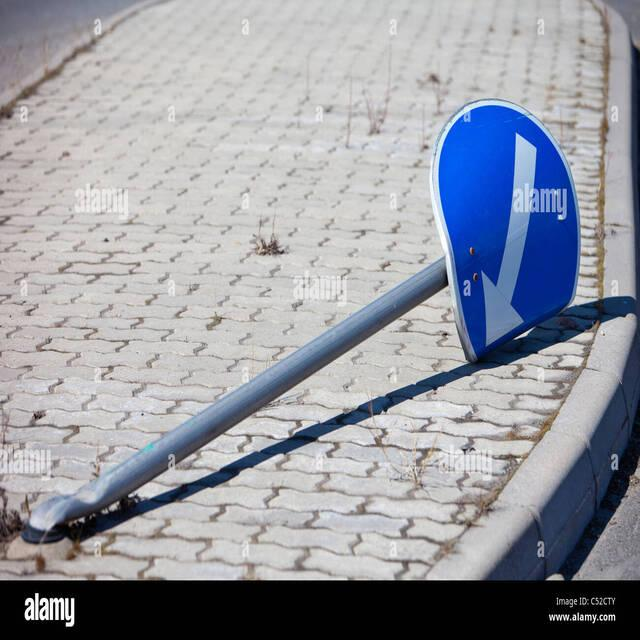Inclined Pole: (26, 105, 627, 538)
